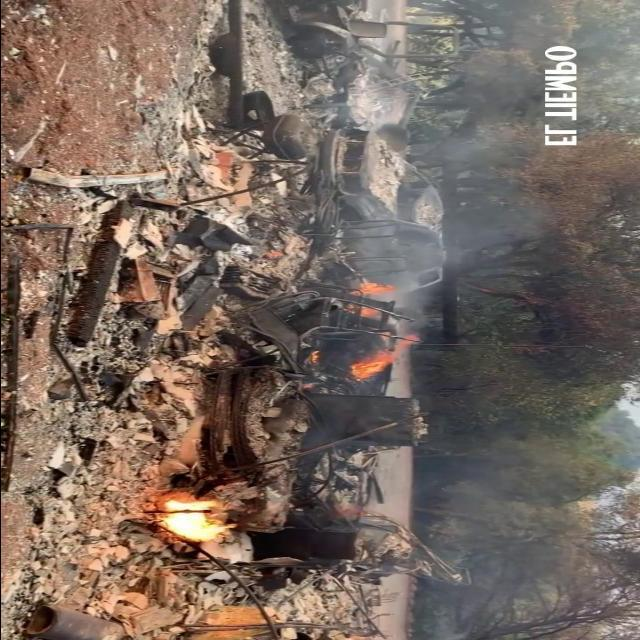Fire: (163, 497, 230, 543), (350, 357, 390, 381), (362, 281, 393, 293), (310, 350, 324, 366)
